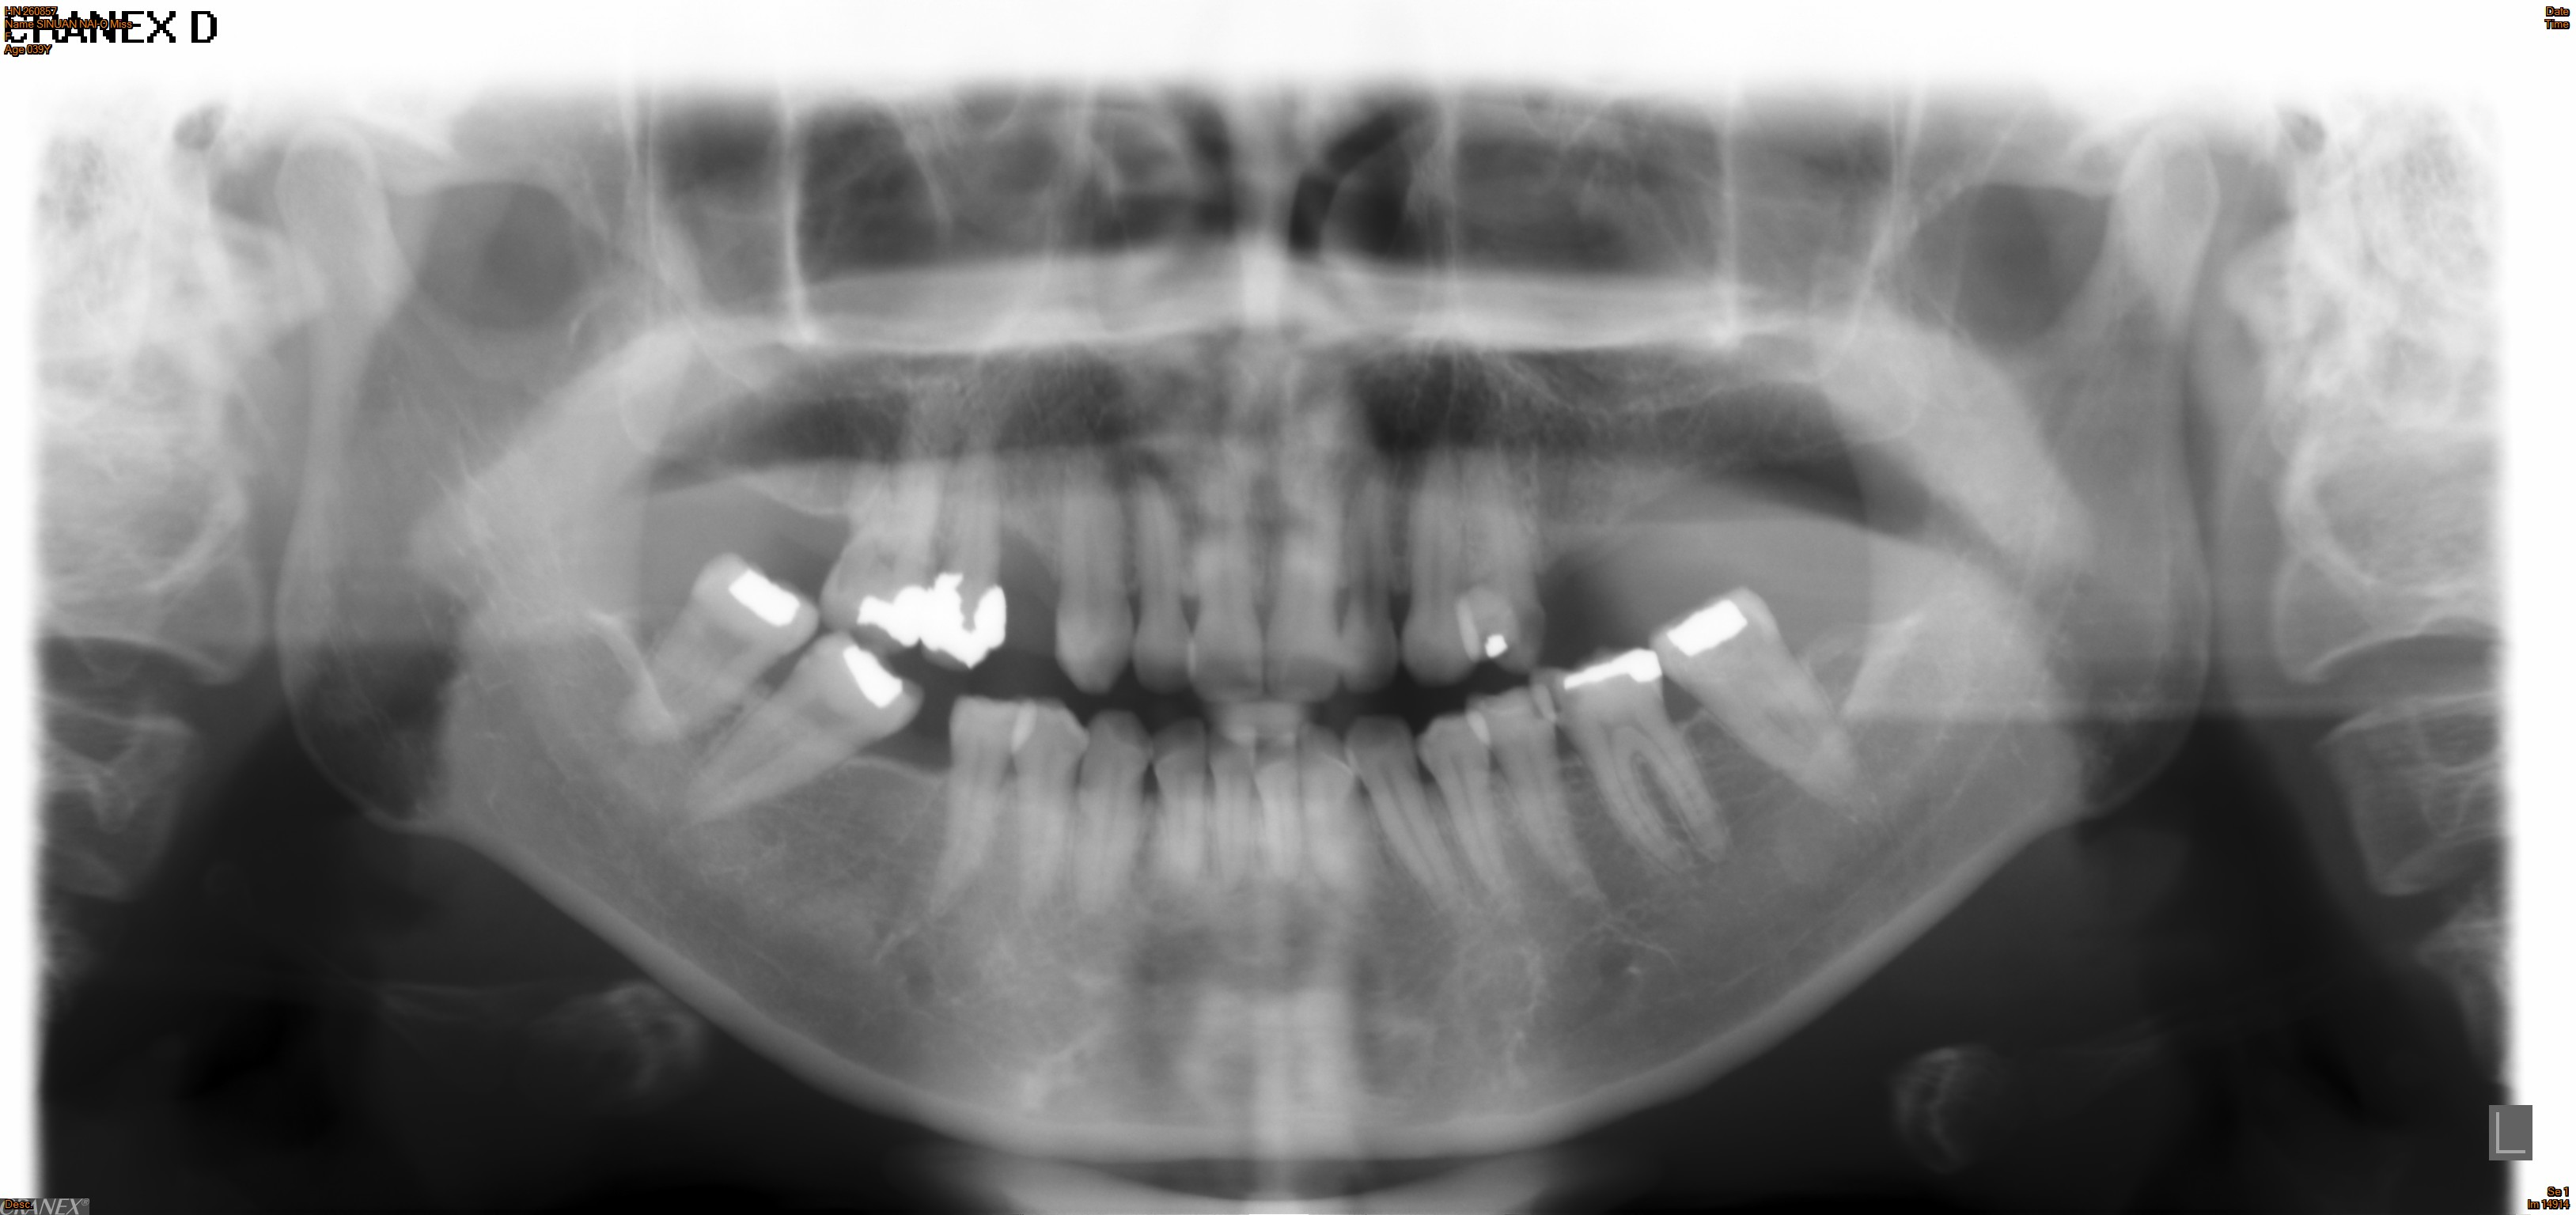periodontitis: (1543, 639, 1748, 888)
